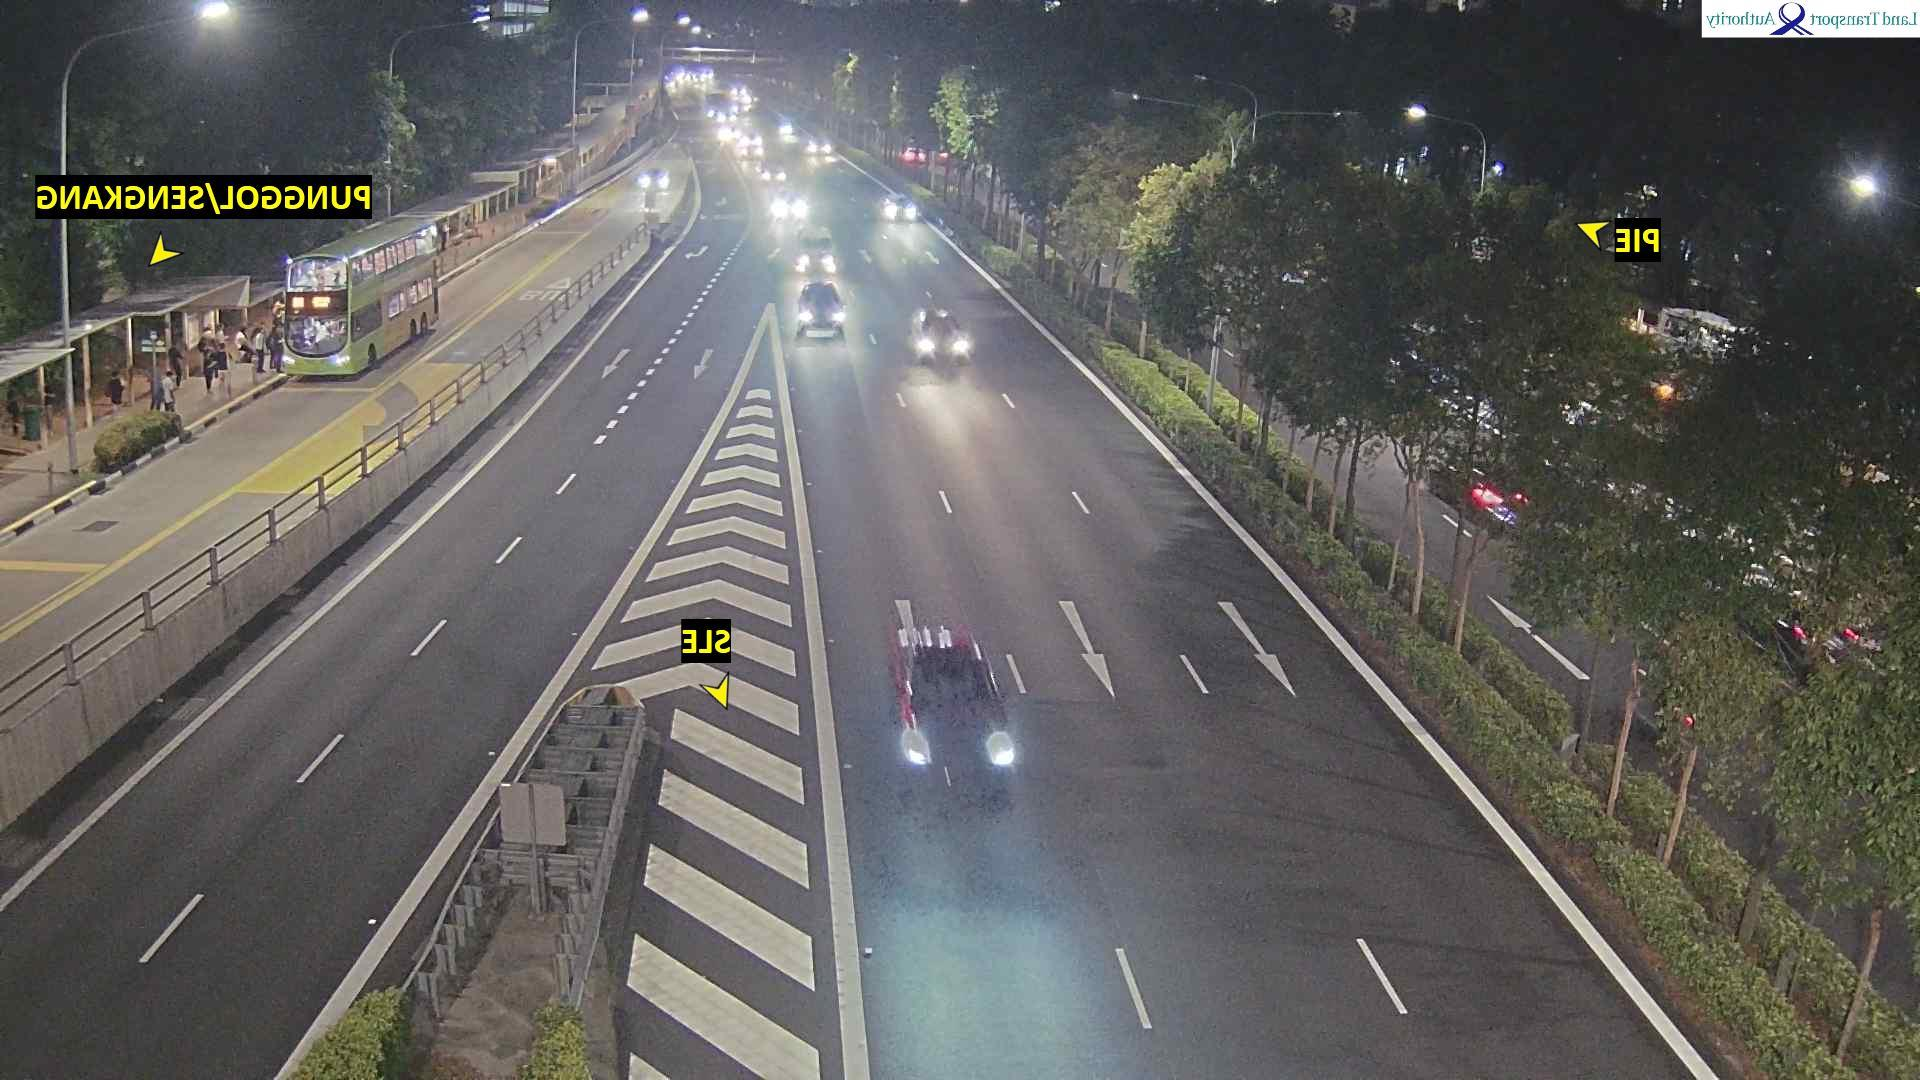bus: (270, 220, 444, 388)
cars: (890, 617, 1019, 782), (1423, 456, 1542, 517), (909, 305, 975, 367), (796, 280, 847, 339), (793, 225, 839, 276), (767, 187, 812, 233), (882, 193, 920, 222), (804, 135, 837, 162), (638, 165, 671, 191), (760, 161, 790, 185), (777, 113, 796, 144), (901, 145, 926, 164), (741, 145, 764, 160)
